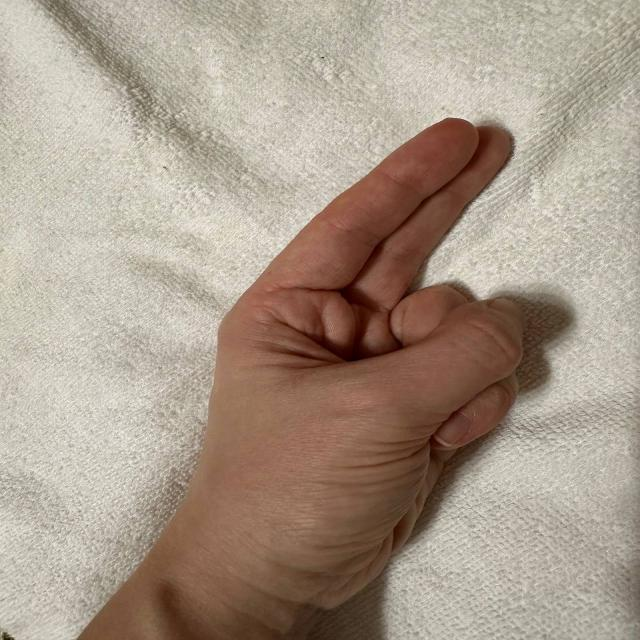ts: (220, 104, 553, 604)
